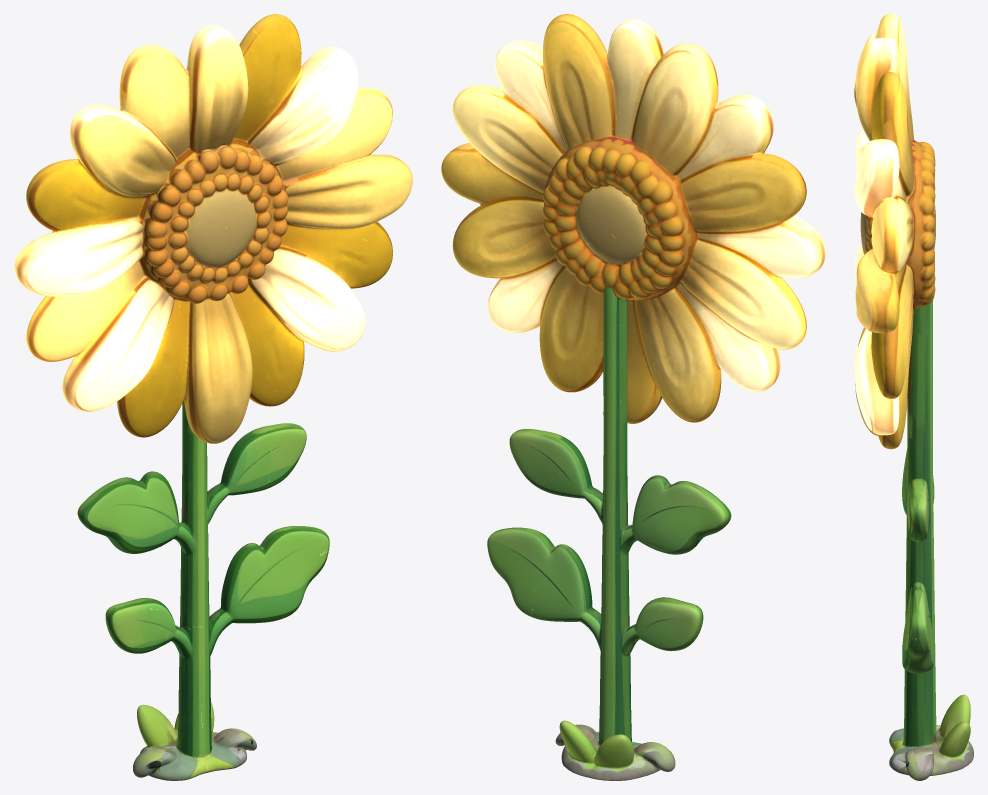
File: Meshy_AI_Golden_Daisy_0709151817_texture.fbx
3 views of the same model, side by side, from view 1: azimuth 30°, elevation 25°; view 2: azimuth 150°, elevation 25°; view 3: azimuth 270°, elevation 25° (orthographic). The views are drawn at different scales.
Parts seen in each view (by area): view 1: Mesh_0; view 2: Mesh_0; view 3: Mesh_0.
Boxes of the visible parts, x1,y1,x2,y2 form: Mesh_0: [14, 14, 412, 780]; Mesh_0: [441, 14, 825, 780]; Mesh_0: [854, 14, 973, 780].
Bounding box in the file's own units: 104 × 190 × 28.84.
1 material, 1 textured.
